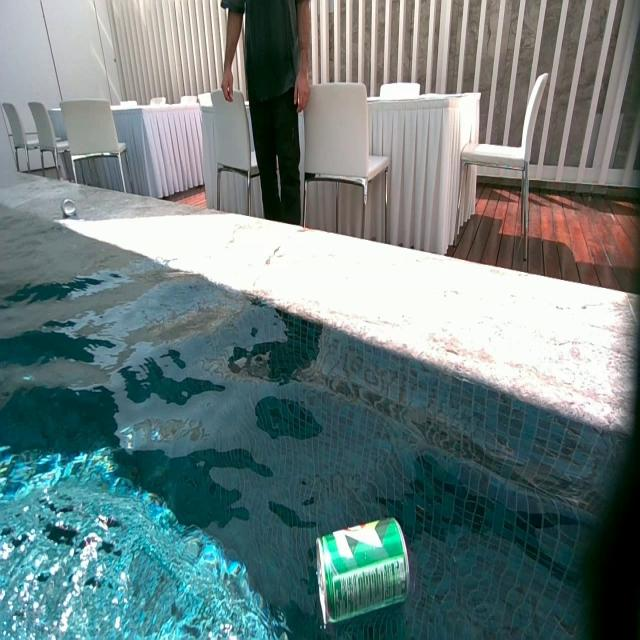Cans: (316, 517, 412, 629), (63, 199, 76, 217)
